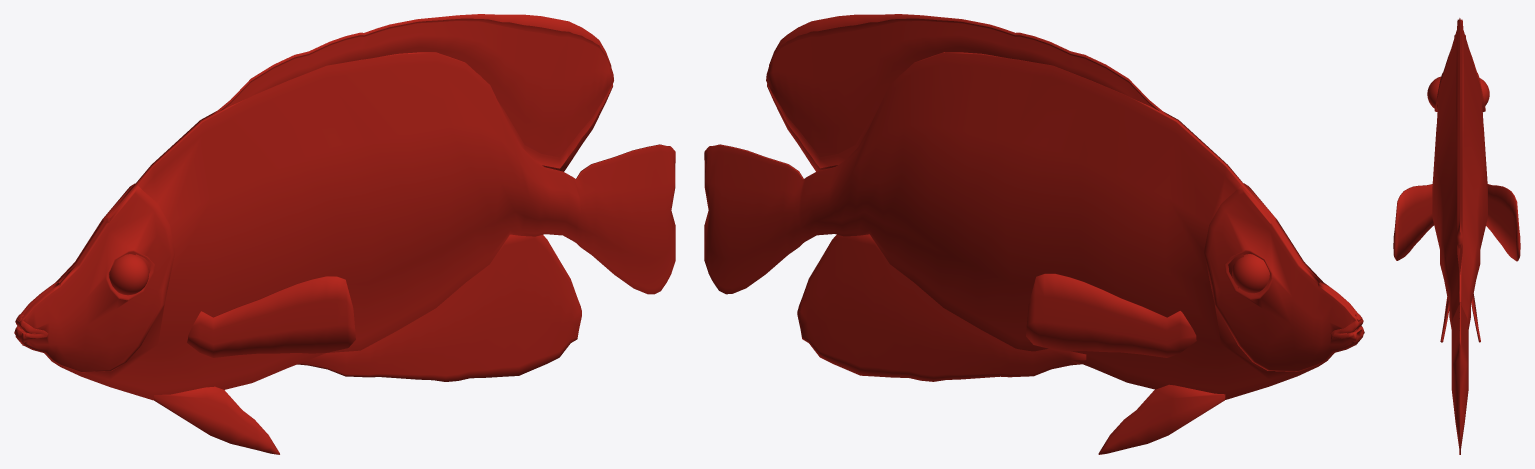
File: saba.glb
The picture shows the model from 3 angles, left to right: view 1: azimuth 30°, elevation 25°; view 2: azimuth 150°, elevation 25°; view 3: azimuth 270°, elevation 25°; orthographic projection. The views are drawn at different scales.
Visible parts, largest first — view 1: Cube, Plane.001, Plane, Plane.004, Plane.002, Sphere; view 2: Cube, Plane.001, Plane, Plane.005, Plane.003, Sphere.001; view 3: Cube, Plane.004, Plane.005, Plane.001, Sphere, Plane.003, Plane.002, Sphere.001.
Boxes of the visible parts, <box> form: Cube: <box>14,52,675,400</box>; Plane.001: <box>211,14,613,171</box>; Plane: <box>297,234,581,381</box>; Plane.004: <box>187,276,355,357</box>; Plane.002: <box>154,386,279,454</box>; Sphere: <box>109,254,148,295</box>; Cube: <box>704,52,1364,399</box>; Plane.001: <box>766,14,1167,171</box>; Plane: <box>797,234,1086,381</box>; Plane.005: <box>1026,273,1196,357</box>; Plane.003: <box>1098,384,1225,454</box>; Sphere.001: <box>1232,254,1269,293</box>; Cube: <box>1432,19,1487,454</box>; Plane.004: <box>1393,184,1433,260</box>; Plane.005: <box>1486,184,1520,261</box>; Plane.001: <box>1457,18,1462,291</box>; Sphere: <box>1427,76,1440,109</box>; Plane.003: <box>1471,294,1480,342</box>; Plane.002: <box>1440,297,1449,342</box>; Sphere.001: <box>1479,78,1489,106</box>.
Bounding box in the file's own units: 4.89 × 2.8 × 0.9524.
